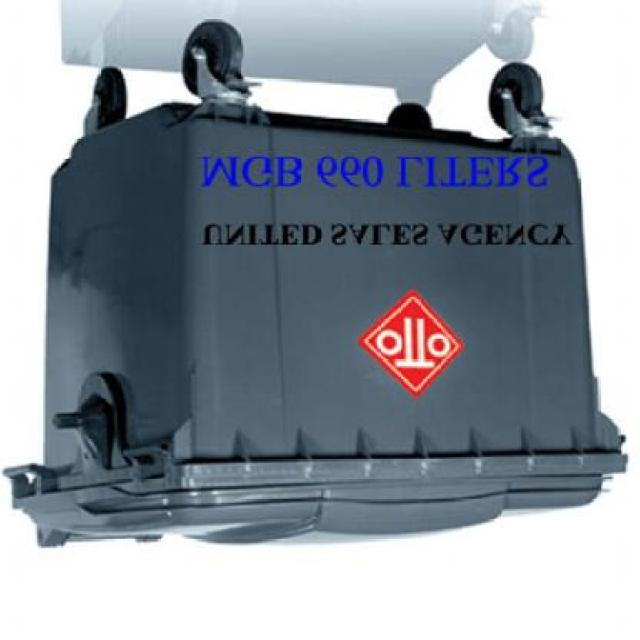garbage container: (2, 13, 636, 558)
